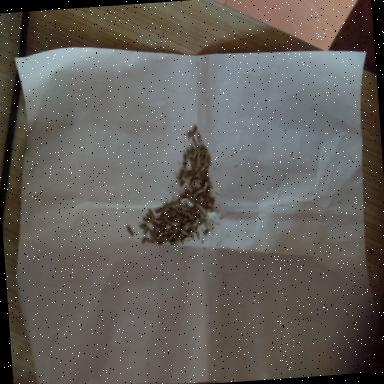pbw: (148, 208, 155, 220), (190, 127, 198, 137), (191, 148, 198, 158), (127, 227, 134, 237), (164, 214, 170, 225), (192, 137, 198, 148), (166, 232, 174, 240), (155, 232, 163, 240), (196, 146, 201, 158), (202, 181, 208, 191), (154, 222, 160, 232), (204, 196, 210, 206), (143, 218, 151, 225), (149, 230, 156, 238), (186, 133, 192, 142), (180, 169, 185, 179), (196, 134, 201, 144), (196, 156, 200, 168), (150, 236, 156, 244), (141, 238, 148, 244), (196, 188, 203, 194), (177, 232, 181, 242), (176, 176, 182, 182), (180, 181, 186, 187), (142, 227, 147, 234), (180, 230, 188, 234)
